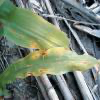Corn leaf blight: (2, 48, 100, 88), (2, 0, 72, 50)
